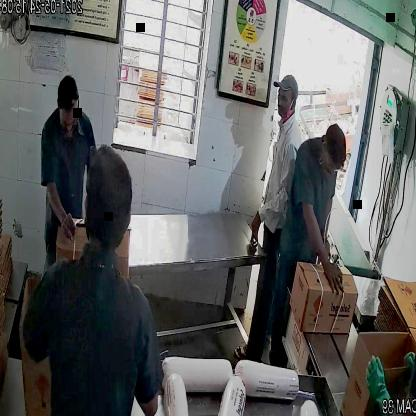no_goggles: (275, 90, 298, 107)
